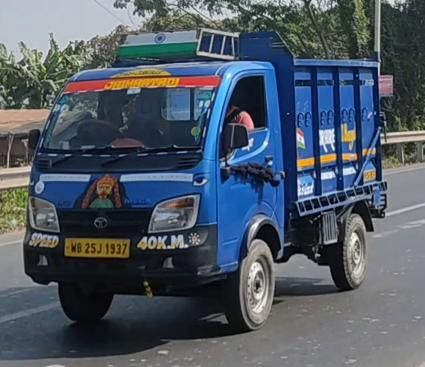Truck: (21, 27, 391, 336)
